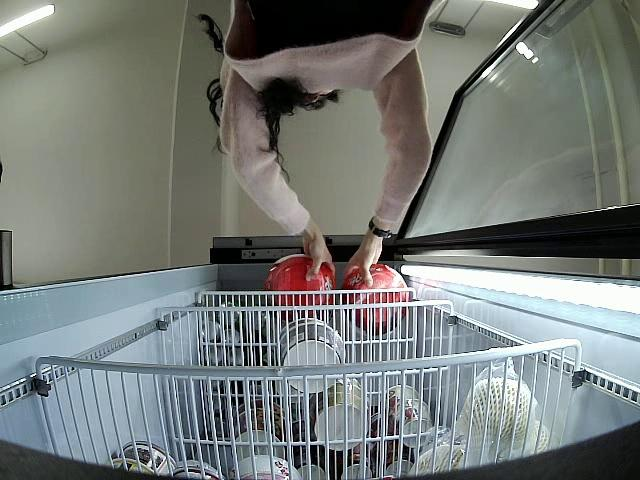00_hand: (300, 214, 336, 283), (345, 233, 380, 286)
10_wangTtukkeong: (346, 264, 409, 335), (269, 256, 336, 315)
